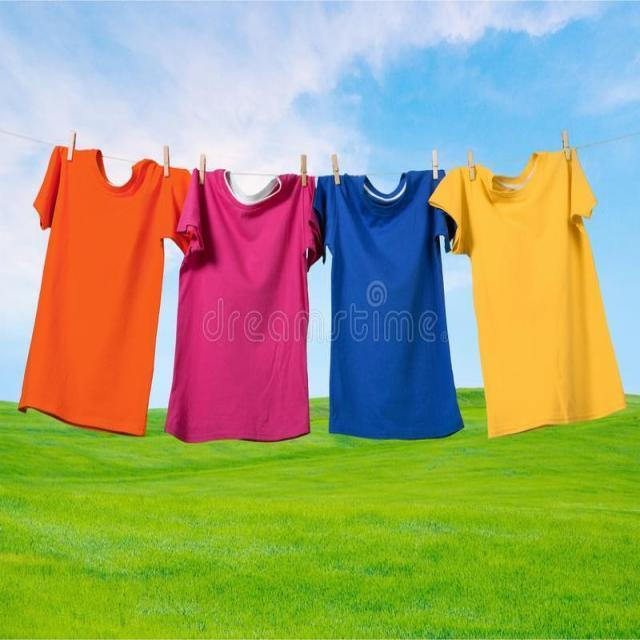clothes: (431, 123, 621, 437), (166, 136, 320, 438), (316, 158, 473, 442), (23, 132, 157, 432)
